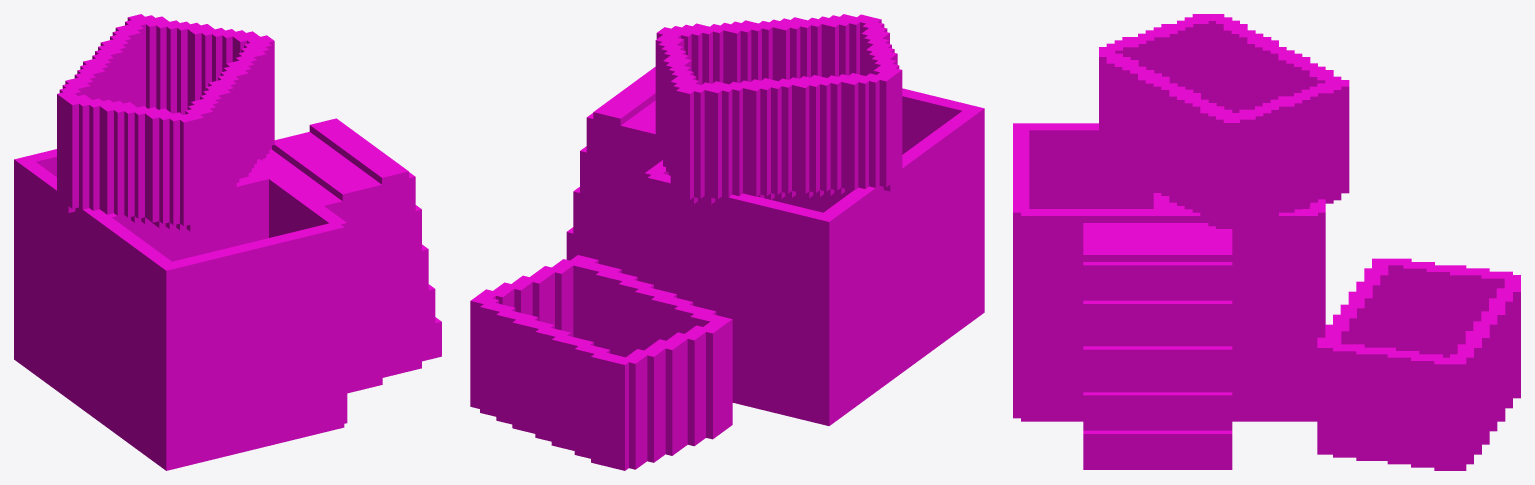
File: low_poly_plastic_crates.glb
3 renders of one model, left to right at view 1: azimuth 30°, elevation 25°; view 2: azimuth 150°, elevation 25°; view 3: azimuth 270°, elevation 25°, orthographic. The views are drawn at different scales.
Visible parts, largest first — view 1: col_block_02, col_wall_17, col_wall_15, col_block_01, col_wall_14, col_column_40, col_wall_16, col_column_39, col_wall_03, col_wall_19, col_column_50, col_block_08 (+47 smaller); view 2: col_block_01, col_wall_13, col_wall_14, col_block_02, col_wall_15, col_column_41, col_column_48, col_column_10, col_column_01, col_column_38, col_column_18, col_column_24 (+57 smaller); view 3: col_wall_04, col_wall_05, col_wall_15, col_wall_11, col_wall_12, col_wall_10, col_wall_21, col_wall_22, col_wall_20, col_column_06, col_column_04, col_floor_16 (+77 smaller).
Boxes of the visible parts, box(x1,y1,x2,y2) form: col_block_02: box(94, 315, 304, 470); col_wall_17: box(172, 228, 317, 363); col_wall_15: box(101, 220, 179, 366); col_block_01: box(14, 256, 94, 417); col_wall_14: box(21, 161, 114, 319); col_column_40: box(376, 211, 415, 365); col_wall_16: box(107, 178, 249, 261); col_column_39: box(347, 228, 375, 379); col_wall_03: box(304, 324, 344, 436); col_wall_19: box(272, 180, 344, 325); col_column_50: box(310, 223, 337, 330); col_block_08: box(285, 137, 373, 187); col_block_01: box(688, 261, 910, 425); col_wall_13: box(687, 193, 837, 320); col_wall_14: box(823, 153, 918, 313); col_block_02: box(910, 207, 984, 366); col_wall_15: box(904, 105, 984, 255); col_column_41: box(580, 146, 620, 268); col_column_48: box(647, 172, 688, 286); col_column_10: box(591, 351, 631, 463); col_column_01: box(706, 317, 732, 439); col_column_38: box(620, 168, 644, 282); col_column_18: box(551, 334, 586, 443); col_column_24: box(512, 317, 546, 426); col_wall_04: box(1232, 272, 1317, 421); col_wall_05: box(1021, 272, 1083, 421); col_wall_15: box(1013, 123, 1145, 208); col_wall_11: box(1099, 346, 1232, 392); col_wall_12: box(1099, 300, 1216, 346); col_wall_10: box(1099, 392, 1232, 430); col_wall_21: box(1153, 212, 1317, 272); col_wall_22: box(1021, 212, 1153, 272); col_wall_20: box(1099, 262, 1216, 300); col_column_06: box(1434, 357, 1466, 470); col_column_04: box(1356, 347, 1388, 460); col_floor_16: box(1083, 430, 1216, 455).
Size of the model in its own units: 113 by 103 by 153.
